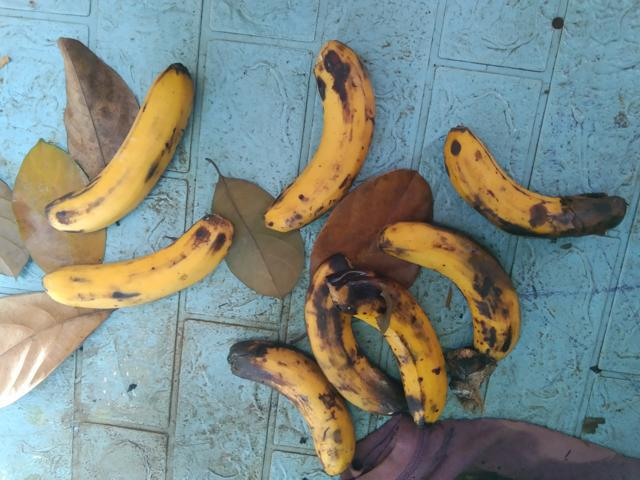overripe: (32, 210, 237, 323), (266, 29, 367, 231)
ripe: (35, 49, 221, 246)
rotten: (426, 121, 639, 243), (390, 202, 532, 365), (322, 261, 450, 434), (203, 327, 352, 469)
